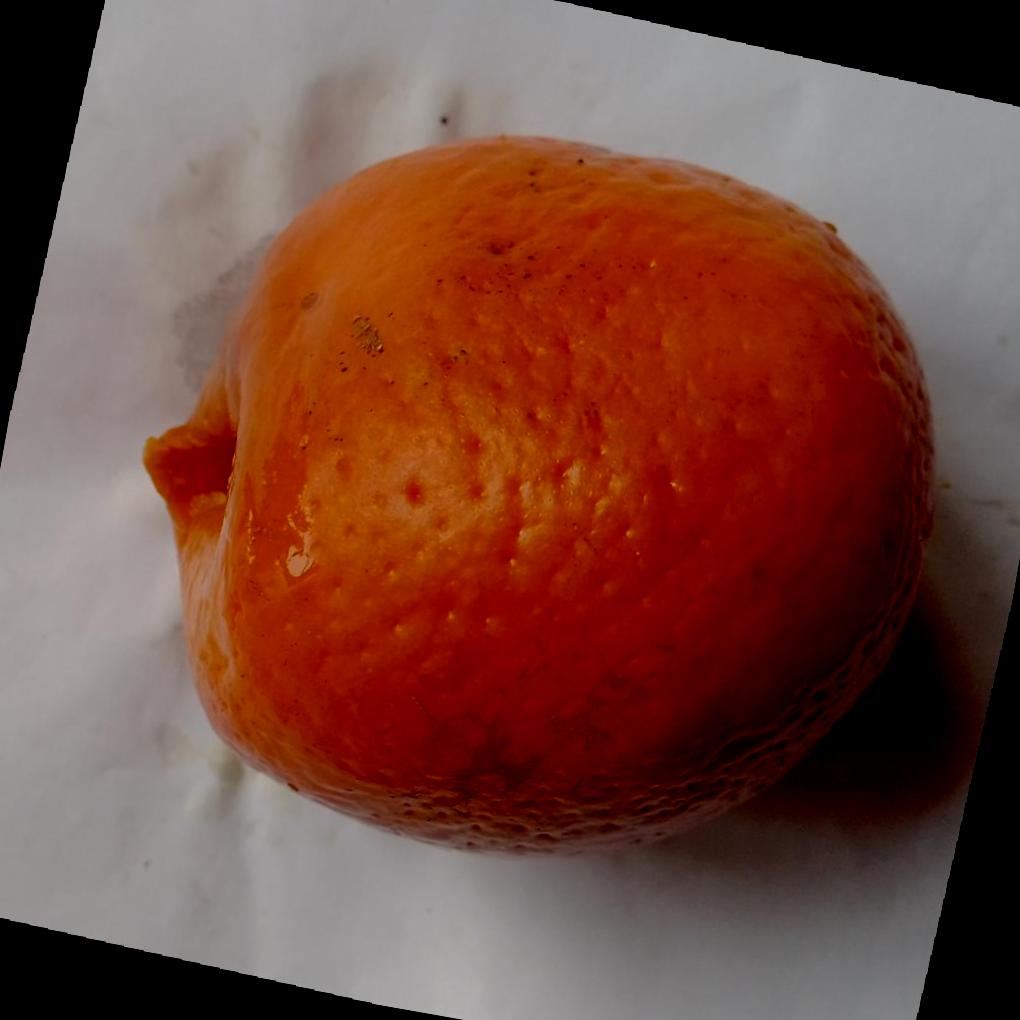FreshOrange: (140, 135, 936, 857)
